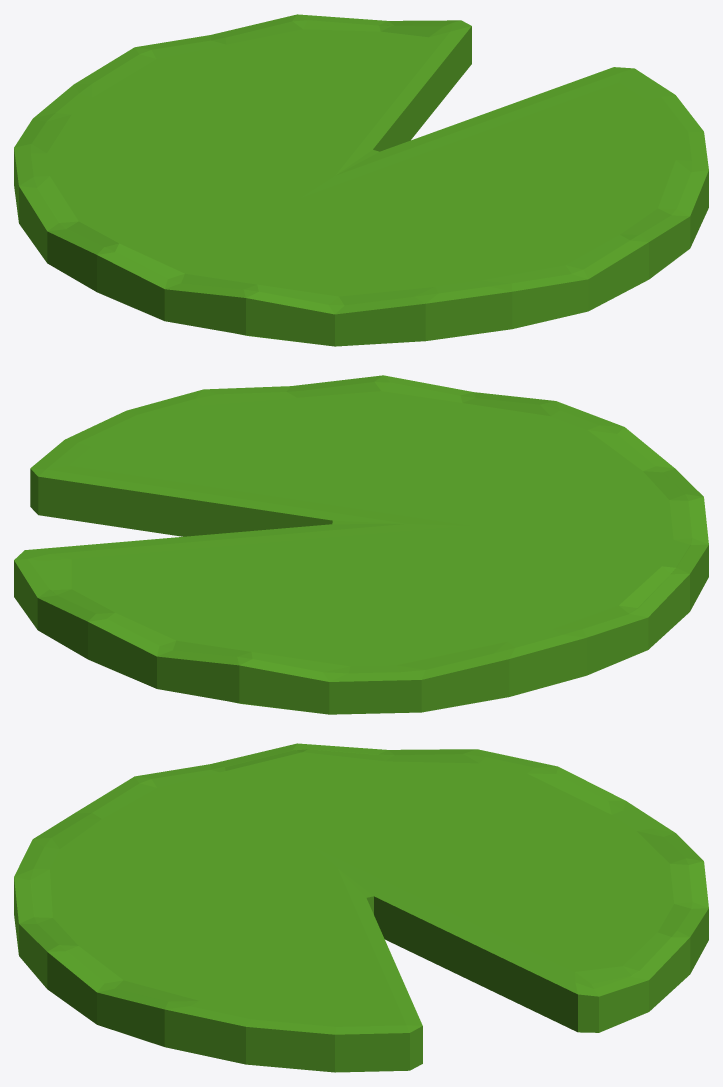
The model's file is lotus.fbx.
The picture shows the model from 3 angles, top to bottom: view 1: azimuth 30°, elevation 25°; view 2: azimuth 150°, elevation 25°; view 3: azimuth 270°, elevation 25°; orthographic projection.
Visible parts, largest first — view 1: Cylinder.008; view 2: Cylinder.008; view 3: Cylinder.008.
Part boxes in pixels (box(x1,y1,x2,y2)): Cylinder.008: box(14, 14, 708, 346); Cylinder.008: box(14, 375, 708, 714); Cylinder.008: box(14, 743, 708, 1072).
Bounding box in the file's own units: 138 × 9.7 × 138.
